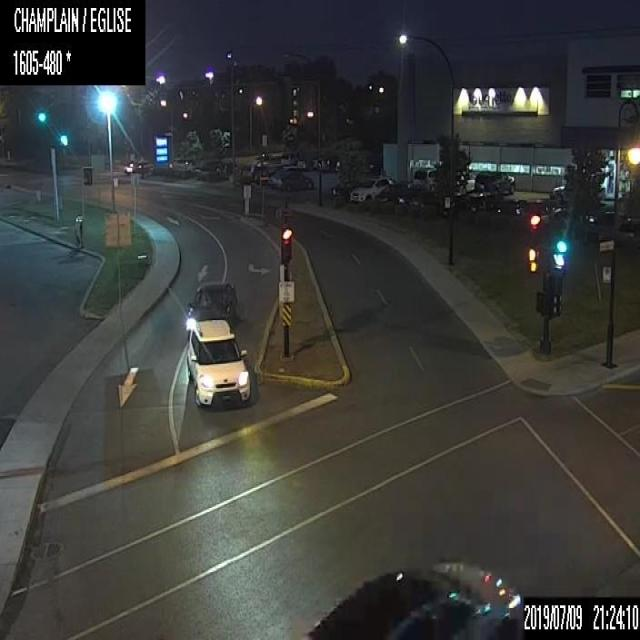vehicle: (304, 558, 522, 638), (186, 318, 250, 410), (186, 280, 240, 333), (587, 210, 630, 240), (552, 180, 604, 204), (350, 175, 392, 202), (473, 169, 515, 195), (374, 180, 412, 204), (399, 182, 435, 207), (192, 156, 228, 178), (528, 198, 560, 222), (275, 169, 313, 189), (616, 216, 639, 244), (330, 178, 357, 201), (256, 160, 282, 183), (412, 168, 436, 190), (454, 172, 476, 196), (171, 156, 195, 170), (124, 160, 151, 172), (280, 150, 299, 165), (240, 162, 256, 178), (267, 172, 276, 188), (296, 158, 306, 168)
